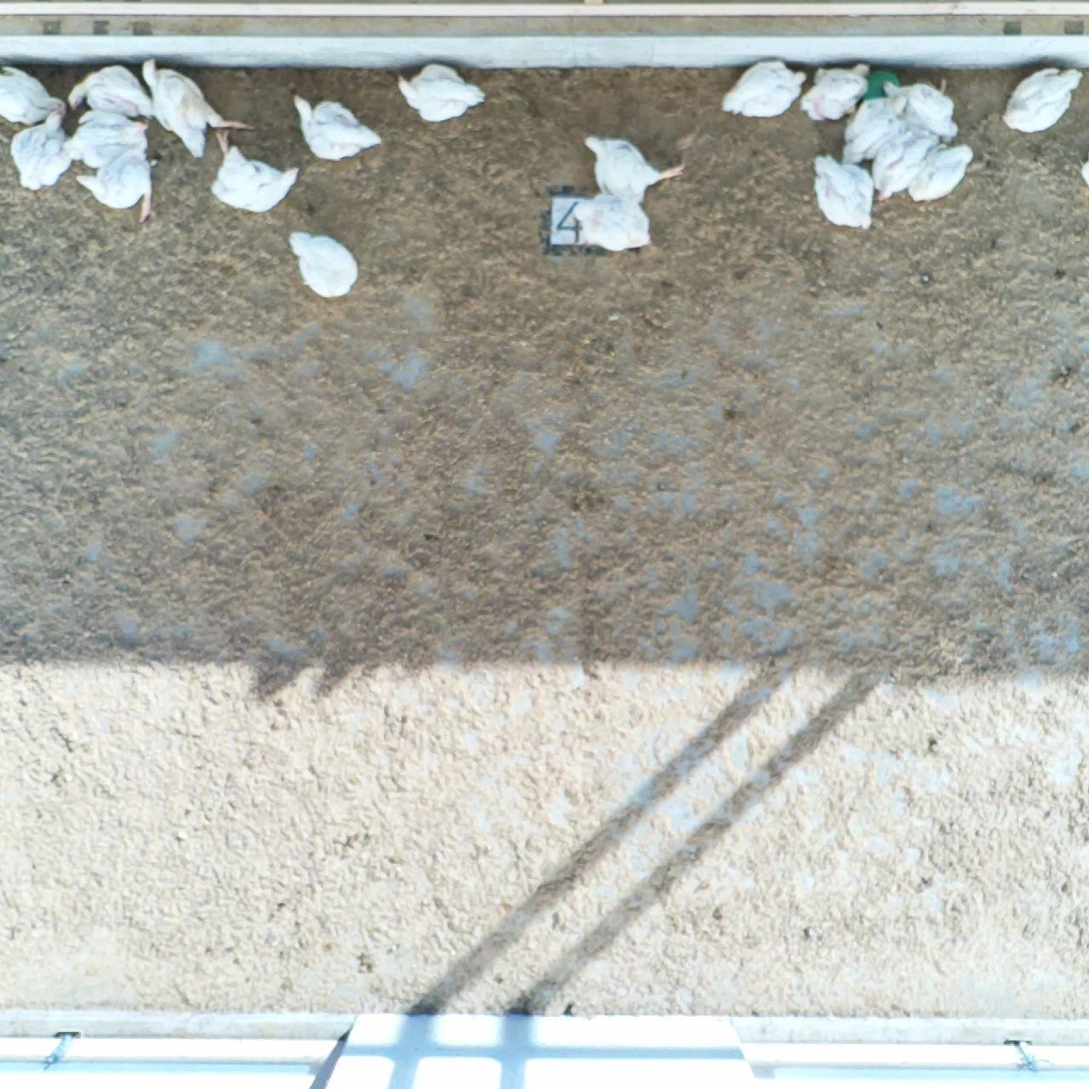chicken: (142, 56, 255, 159), (578, 131, 688, 207), (212, 129, 297, 214), (290, 88, 380, 162), (282, 228, 361, 300), (394, 62, 483, 123), (722, 55, 804, 121), (77, 159, 159, 224), (9, 111, 73, 194), (66, 63, 157, 117), (813, 151, 875, 227), (840, 94, 906, 165), (1005, 66, 1073, 134), (576, 193, 655, 250), (883, 81, 960, 138), (879, 129, 943, 197), (65, 114, 151, 164), (1, 63, 70, 125), (905, 141, 971, 201), (802, 63, 867, 119), (1079, 150, 1089, 197)
